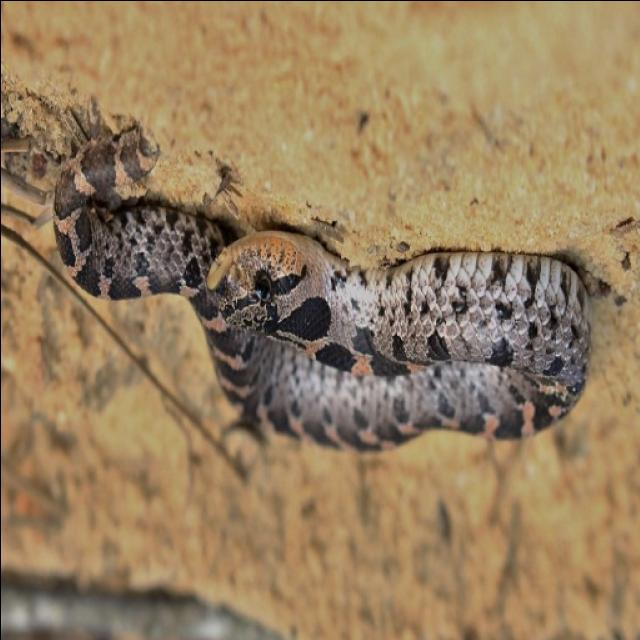snake: (29, 113, 598, 469)
